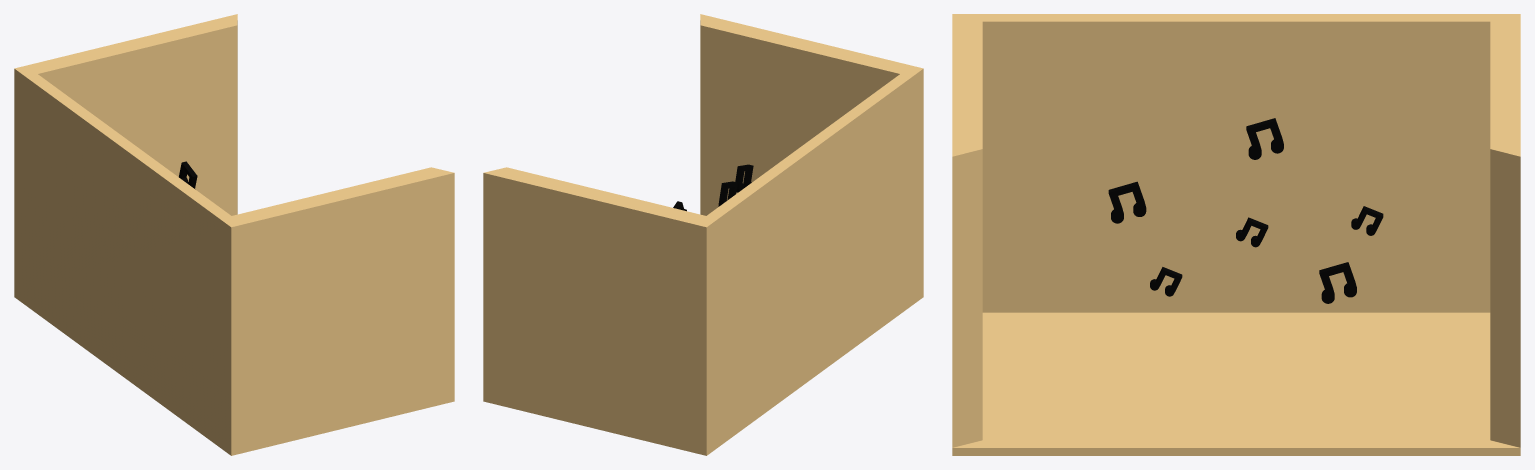
The model's file is RoomBounce.fbx.
3 renders of one model, left to right at view 1: azimuth 30°, elevation 25°; view 2: azimuth 150°, elevation 25°; view 3: azimuth 270°, elevation 25°, orthographic. The views are drawn at different scales.
Parts seen in each view (by area): view 1: Cube; view 2: Cube; view 3: Cube.
Part boxes in pixels (<box>): Cube: <box>14,14,454,455</box>; Cube: <box>483,14,923,455</box>; Cube: <box>952,14,1520,455</box>.
Bounding box in the file's own units: 485 × 474 × 816.
